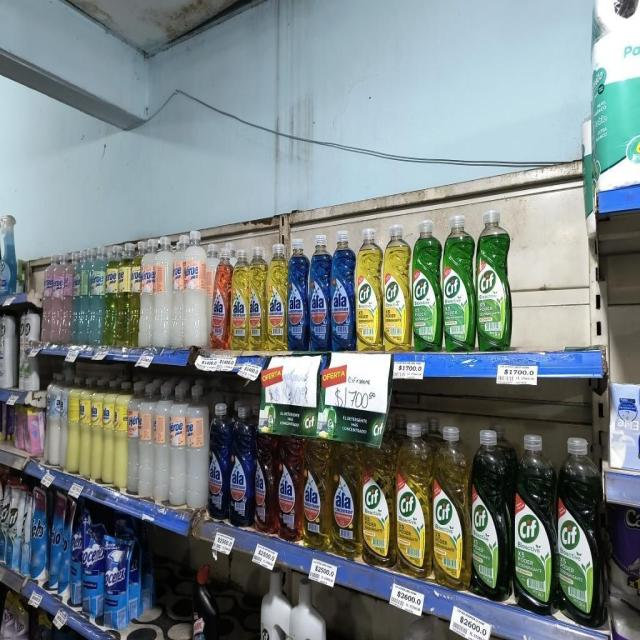ala_conc_amarillo: (332, 436, 361, 558), (302, 436, 330, 550), (266, 242, 286, 350), (230, 247, 248, 351), (249, 245, 266, 351)
ala_conc_azul: (229, 402, 254, 528), (330, 228, 355, 351), (308, 232, 330, 351), (209, 400, 229, 521), (287, 239, 307, 351)
ala_conc_rojo: (277, 435, 301, 542), (254, 430, 275, 534), (211, 242, 230, 350)
ala_crem_amarillo: (114, 381, 127, 491), (68, 375, 80, 475), (103, 381, 114, 486), (91, 380, 102, 482), (80, 377, 91, 479)
ala_crem_blanco: (47, 373, 61, 468)
cif_conc_bot_amarilla: (432, 423, 470, 589), (396, 419, 430, 577), (362, 425, 394, 567), (383, 220, 410, 352), (356, 225, 382, 352)
cif_conc_botella_verde: (556, 435, 602, 625), (513, 433, 554, 612), (471, 428, 510, 600), (476, 208, 510, 352), (442, 213, 475, 352), (411, 217, 441, 352)
